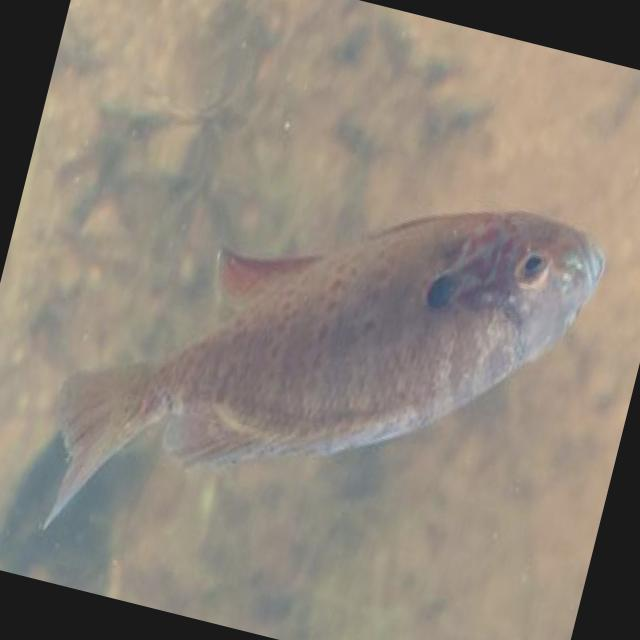Gunes Levregi: (24, 107, 616, 640)
